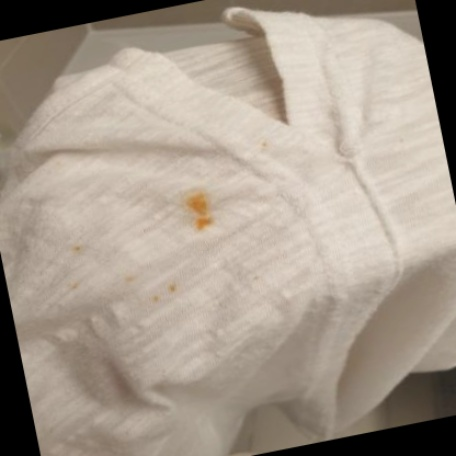kimchi: (182, 189, 213, 232), (164, 275, 182, 297), (120, 272, 141, 287), (147, 296, 165, 306), (72, 277, 85, 290), (257, 133, 270, 145), (72, 243, 84, 255), (248, 272, 260, 283)
